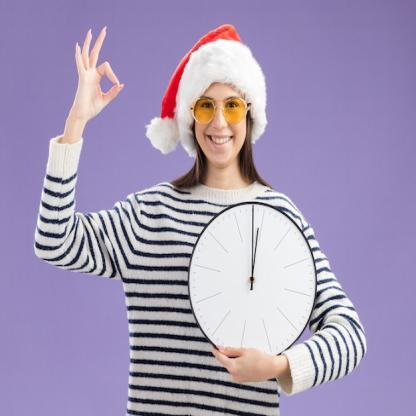ok: (72, 26, 126, 124)
